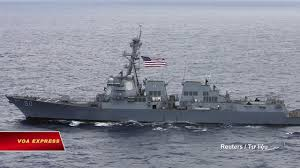tau_muctieu: (11, 54, 300, 131)
